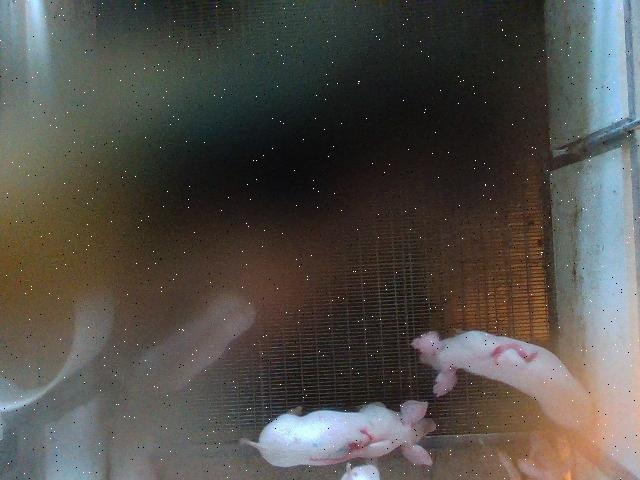pig-2: (411, 331, 592, 431)
pig-3: (240, 401, 435, 467)
